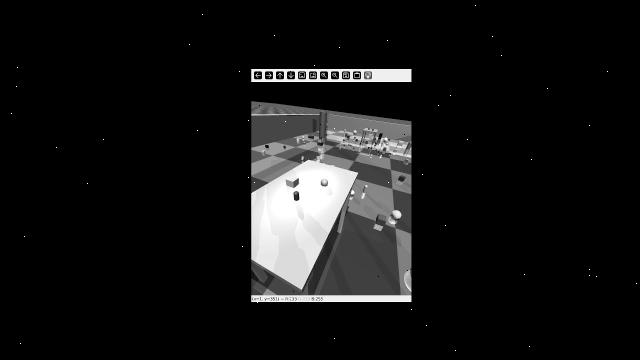cilindro: (317, 111, 330, 139), (293, 190, 300, 201), (363, 184, 368, 194), (315, 154, 322, 161), (407, 140, 411, 149), (343, 129, 347, 136), (378, 132, 382, 139), (301, 156, 307, 160), (307, 135, 315, 138), (345, 133, 349, 136), (374, 137, 377, 141), (342, 138, 346, 141), (343, 144, 347, 147), (378, 150, 381, 153), (382, 143, 385, 146), (359, 142, 362, 145), (367, 146, 370, 149), (389, 152, 392, 155), (340, 144, 342, 147), (371, 127, 373, 129)
cuadrado: (375, 212, 388, 228), (285, 175, 301, 187), (398, 173, 406, 184), (404, 157, 410, 166), (397, 139, 403, 147), (382, 146, 388, 153), (261, 150, 268, 155), (317, 141, 324, 146), (368, 133, 373, 139), (265, 144, 271, 148), (394, 148, 398, 153), (296, 137, 300, 142), (365, 140, 369, 144), (318, 139, 323, 142), (347, 135, 351, 138), (355, 139, 359, 142), (346, 139, 350, 142), (319, 136, 323, 139), (371, 146, 373, 150), (349, 144, 352, 146), (380, 154, 382, 157), (372, 129, 374, 131)
esfera: (319, 177, 332, 187), (351, 190, 355, 197), (383, 137, 388, 142), (283, 144, 287, 149), (303, 141, 308, 145), (370, 153, 375, 157), (353, 130, 358, 134), (302, 135, 305, 139), (375, 141, 379, 144), (352, 147, 355, 150), (354, 135, 357, 138), (388, 138, 392, 140), (368, 127, 370, 130), (374, 145, 377, 147), (375, 149, 378, 151), (343, 141, 345, 143), (386, 143, 389, 144), (353, 139, 354, 142)
